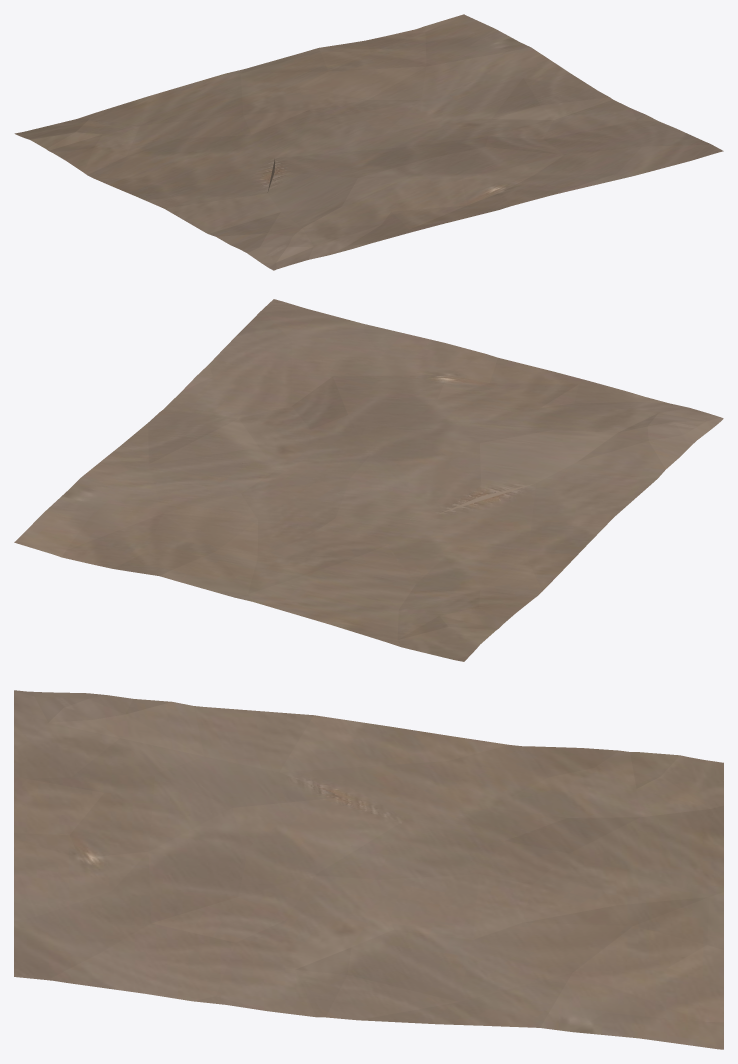
3 renders of one model, top to bottom at view 1: azimuth 30°, elevation 25°; view 2: azimuth 150°, elevation 25°; view 3: azimuth 270°, elevation 25°, orthographic. The views are drawn at different scales.
Size of the model in its own units: 2.09 by 0.2817 by 2.09.
3 materials, 3 textured.
